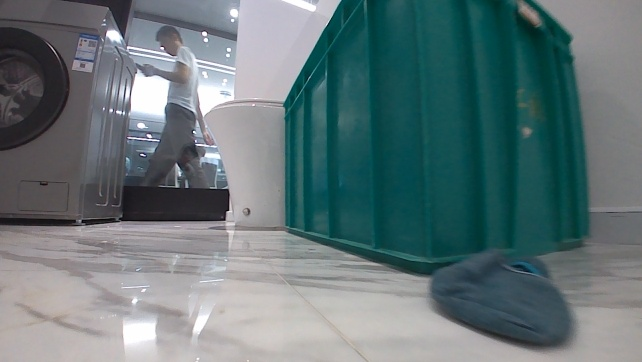socks: (424, 246, 571, 346)
toilet: (202, 95, 290, 231)
washing_machine: (0, 0, 138, 226)
